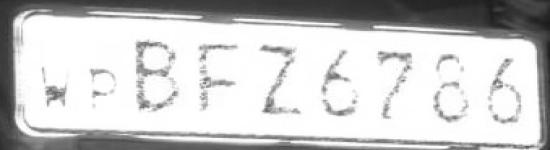6: (322, 49, 359, 116), (486, 58, 522, 124)
7: (378, 52, 413, 120)
8: (433, 54, 469, 122)
B: (136, 41, 178, 111)
F: (198, 44, 238, 111)
P: (89, 68, 117, 108)
W: (42, 67, 71, 107)
Z: (261, 46, 300, 114)
